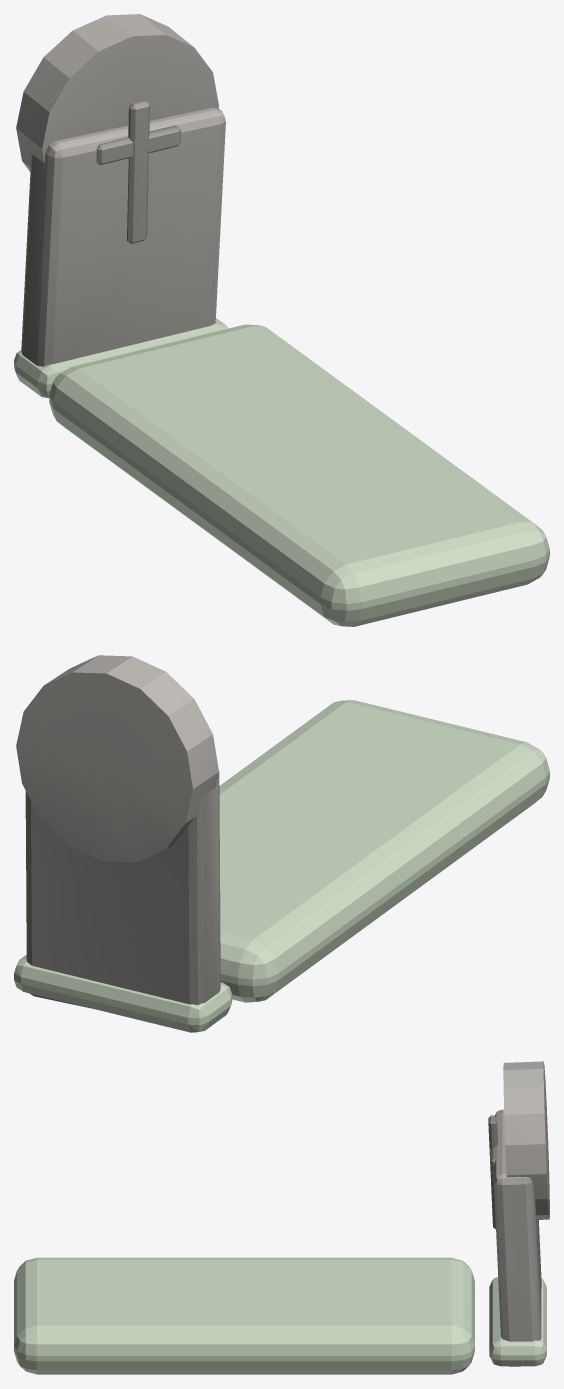
The model's file is gravestone.glb.
3 views of the same model, one above another, from view 1: azimuth 30°, elevation 25°; view 2: azimuth 150°, elevation 25°; view 3: azimuth 270°, elevation 25° (orthographic). The views are drawn at different scales.
Parts seen in each view (by area): view 1: cross_h; view 2: cross_h; view 3: cross_h.
Part boxes in pixels (x1,y1,x2,y2): cross_h: [14, 14, 549, 626]; cross_h: [14, 655, 549, 1032]; cross_h: [14, 1061, 549, 1374].
Bounding box in the file's own units: 0.7 × 1.04 × 1.86.
